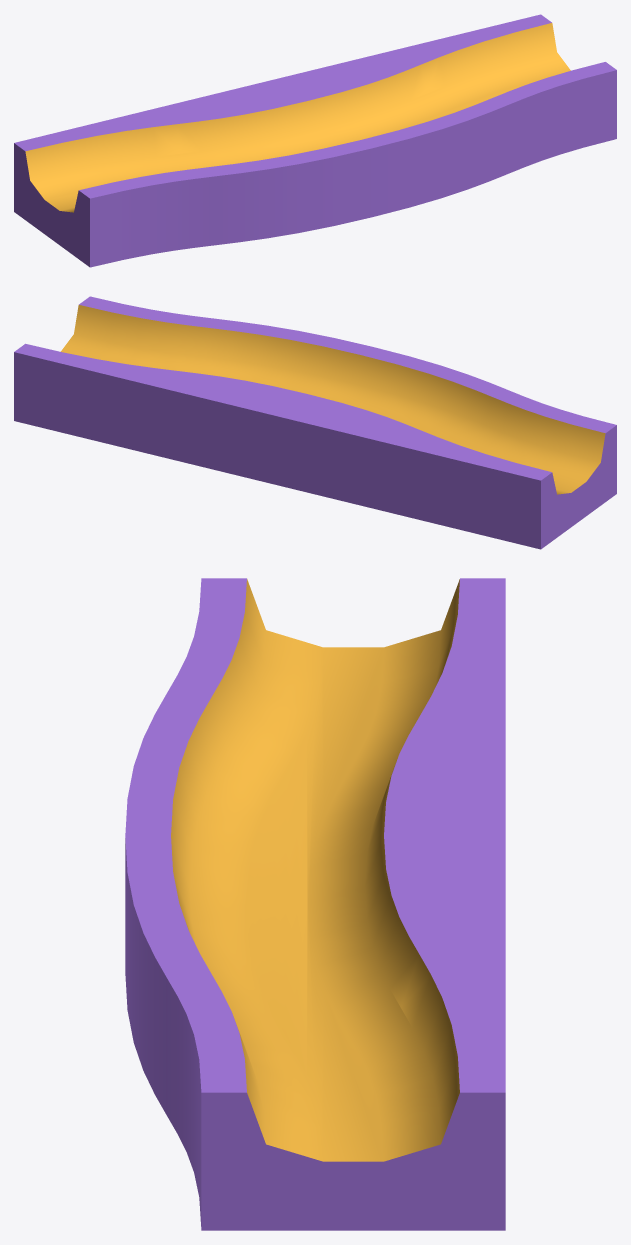
The model's file is wave-solid-a-col.glb.
3 views of the same model, one above another, from view 1: azimuth 30°, elevation 25°; view 2: azimuth 150°, elevation 25°; view 3: azimuth 270°, elevation 25° (orthographic). The views are drawn at different scales.
Visible parts, largest first — view 1: wave-solid-a-col; view 2: wave-solid-a-col; view 3: wave-solid-a-col.
Boxes of the visible parts, x1,y1,x2,y2 form: wave-solid-a-col: [14, 14, 616, 267]; wave-solid-a-col: [14, 296, 616, 549]; wave-solid-a-col: [125, 578, 505, 1230].
Bounding box in the file's own units: 4 × 0.5 × 1.25.
Materials: 1 (1 with a texture image).
